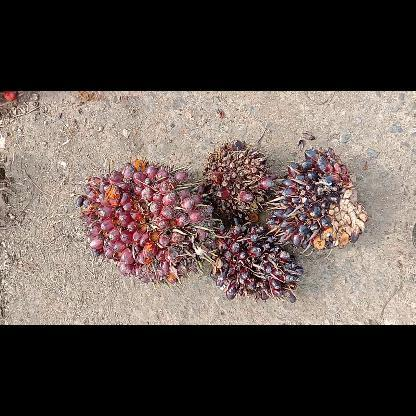TBS abnormal: (272, 146, 370, 247), (212, 224, 306, 304), (198, 140, 274, 221)
TBS masak: (74, 160, 218, 282)
